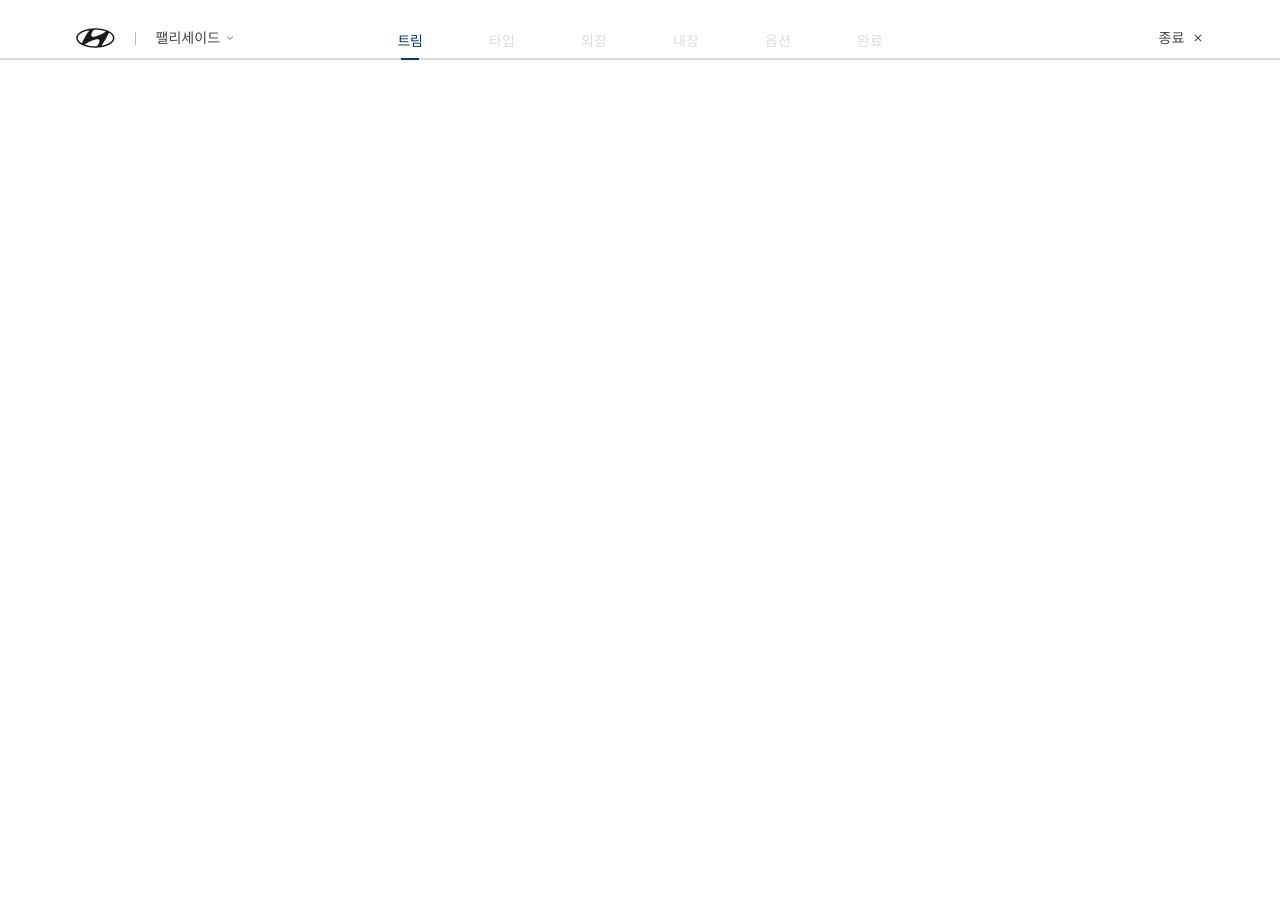
Test case: Header 컴포넌트 테스트 › Header 컴포넌트 모달 테스트 › 종료 버튼을 클릭할 시 종료 확인 모달이 표시된다.
The width and height of the screenshot is (1280, 900).
Click the button "종료".
click(1182, 38)  # box x1=1159 y1=27 x2=1204 y2=49
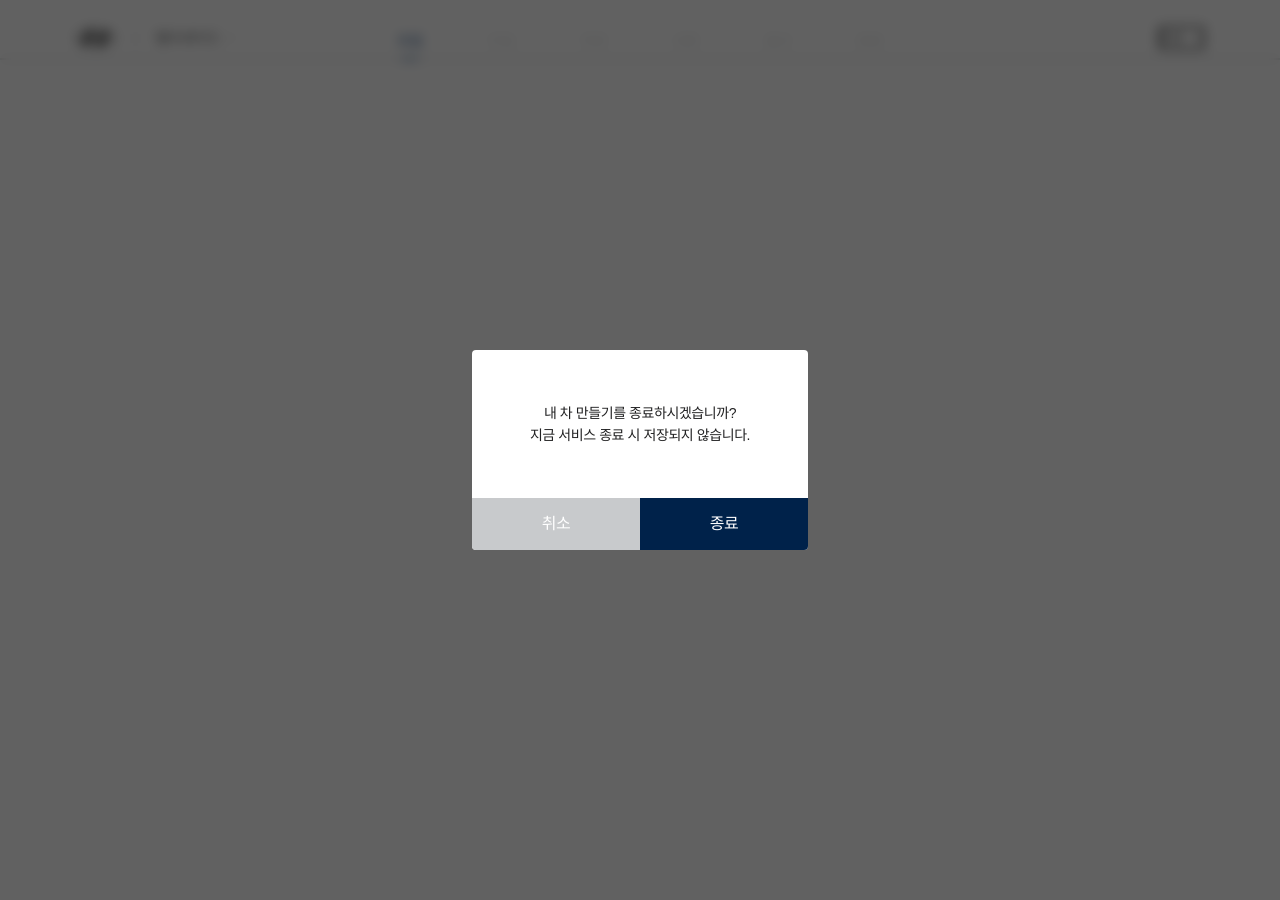
Result: the dialog is shown at x1=472 y1=350 x2=808 y2=550
